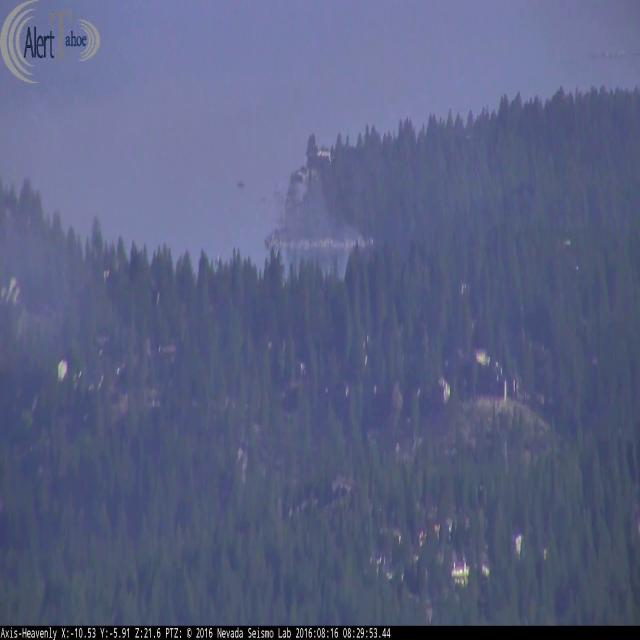smoke: (0, 201, 93, 354), (256, 166, 369, 281)
